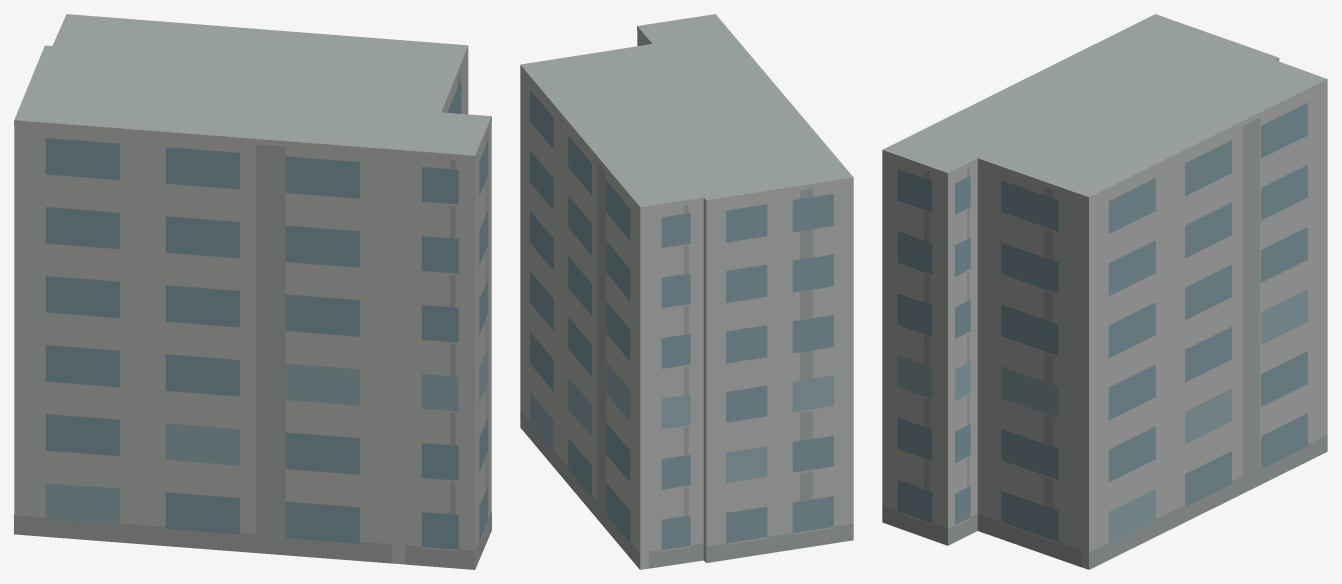
The model's file is survey-upis-32579066.glb.
The picture shows the model from 3 angles, left to right: view 1: azimuth 30°, elevation 25°; view 2: azimuth 150°, elevation 25°; view 3: azimuth 270°, elevation 25°; orthographic projection. The views are drawn at different scales.
Parts seen in each view (by area): view 1: survey-upis-32579066.tmp; view 2: survey-upis-32579066.tmp; view 3: survey-upis-32579066.tmp.
Boxes of the visible parts, left/top/right/bottom form: survey-upis-32579066.tmp: left=14, top=14, right=491, bottom=569; survey-upis-32579066.tmp: left=520, top=14, right=853, bottom=569; survey-upis-32579066.tmp: left=882, top=14, right=1327, bottom=569.
Size of the model in its own units: 19.31 by 18.3 by 19.82.
